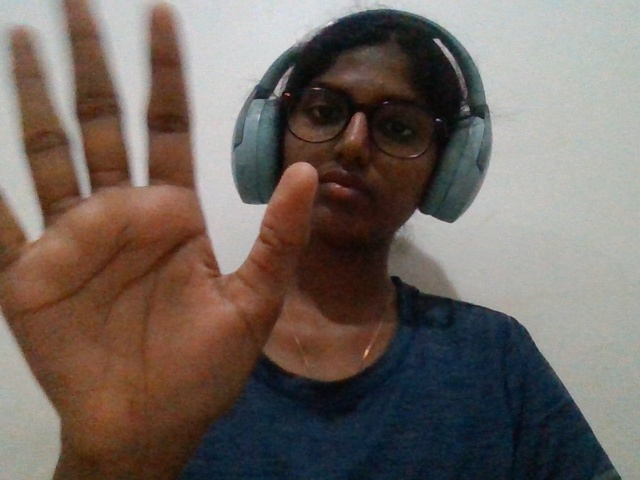Bye: (1, 1, 337, 471)
